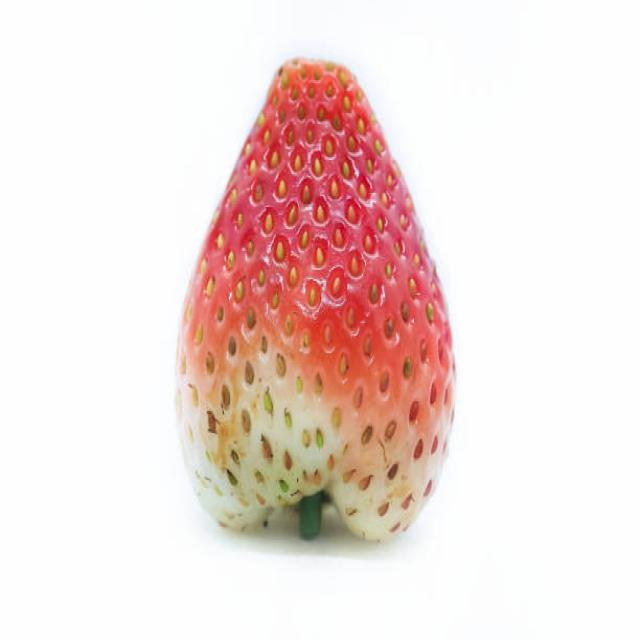Healthy Fruit: (175, 58, 457, 545)
